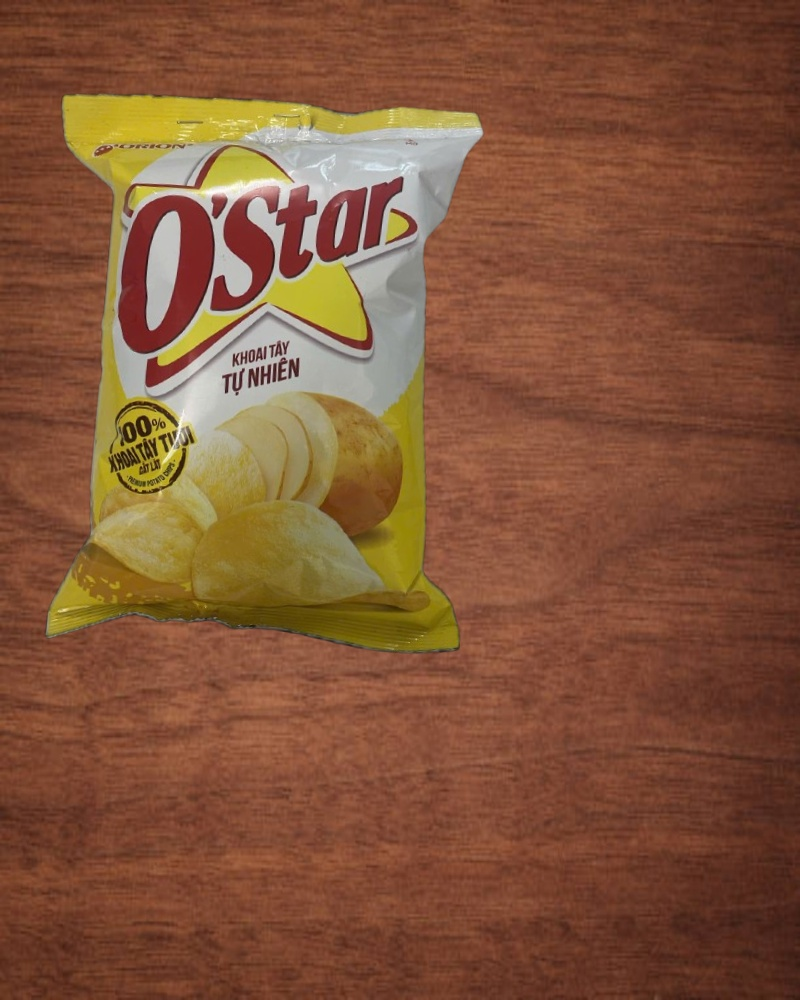O'star: (17, 77, 506, 674)
